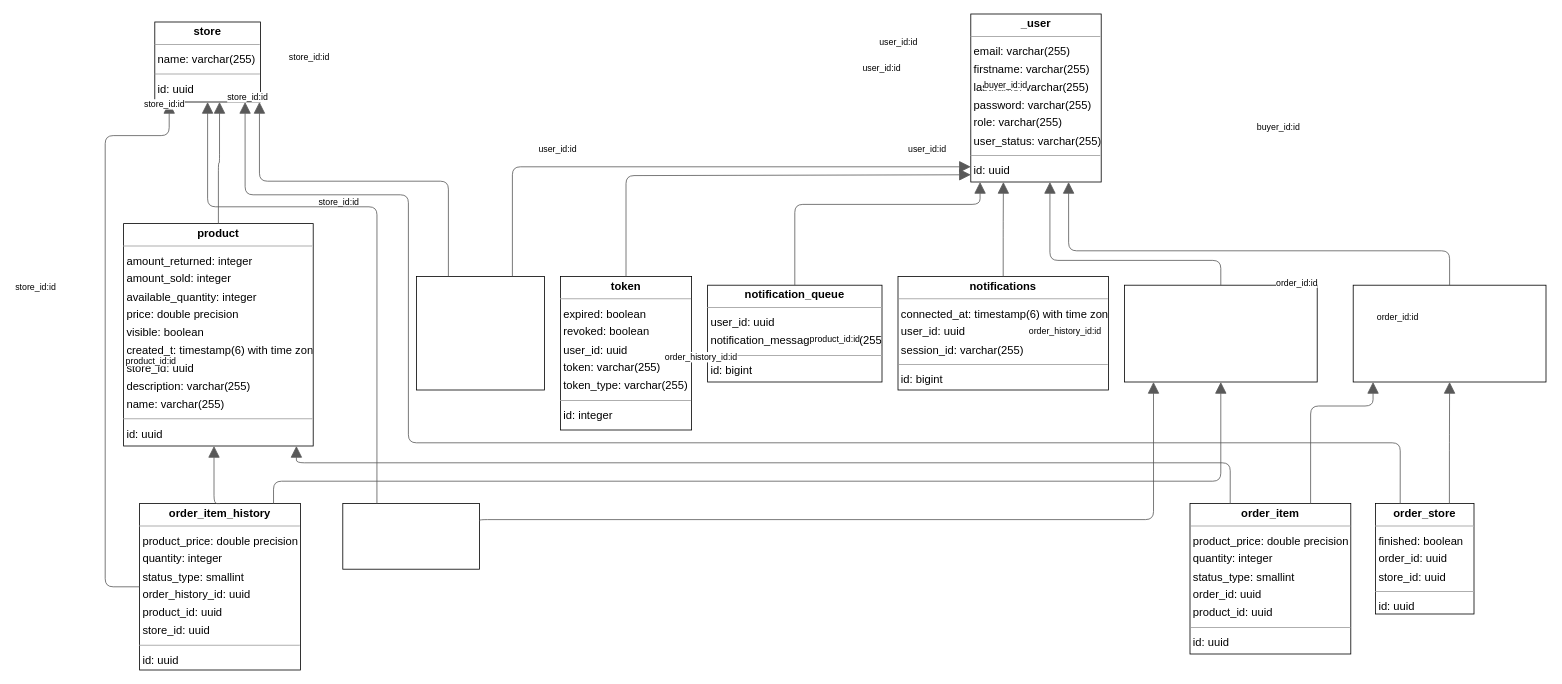
Image size: 1562x684. Some labels were removed from this diagram. The centre of each missing label's shape, as x and y in pixels:
"_order created_t: timestamp(6) with time zone buyer_id: uuid id: uuid" goes at (x=1449, y=333).
"order_history created_t: timestamp(6) with time zone buyer_id: uuid id: uuid" goes at (x=1220, y=333).
"order_store_history order_history_id: uuid store_id: uuid" goes at (x=411, y=536).
"store_employee employee_role: smallint store_id: uuid user_id: uuid id: uuid" goes at (x=480, y=333).
